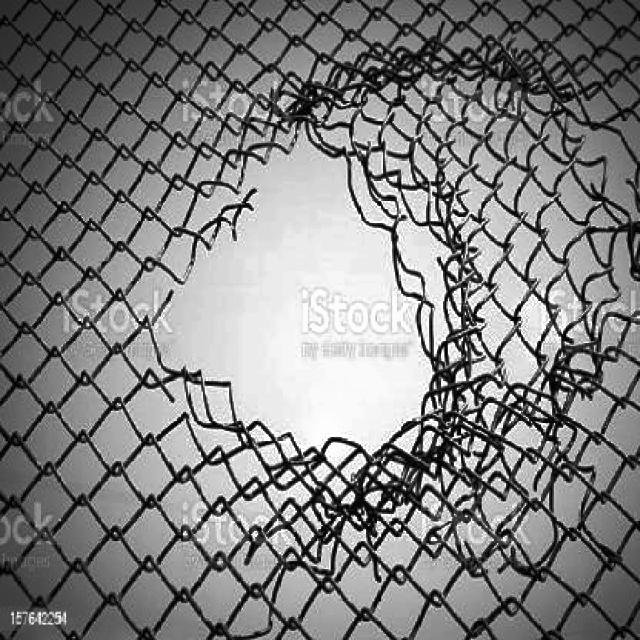anomaly-fence: (122, 33, 640, 585)
